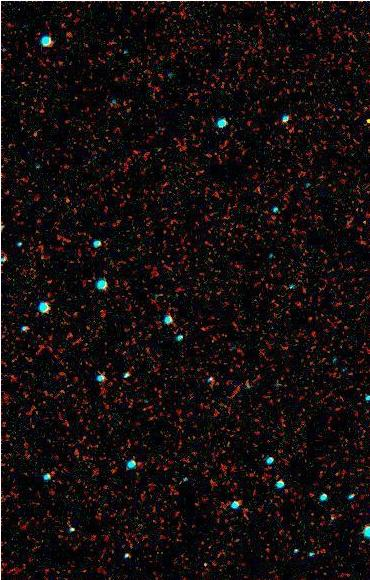star: (355, 105, 370, 135)
